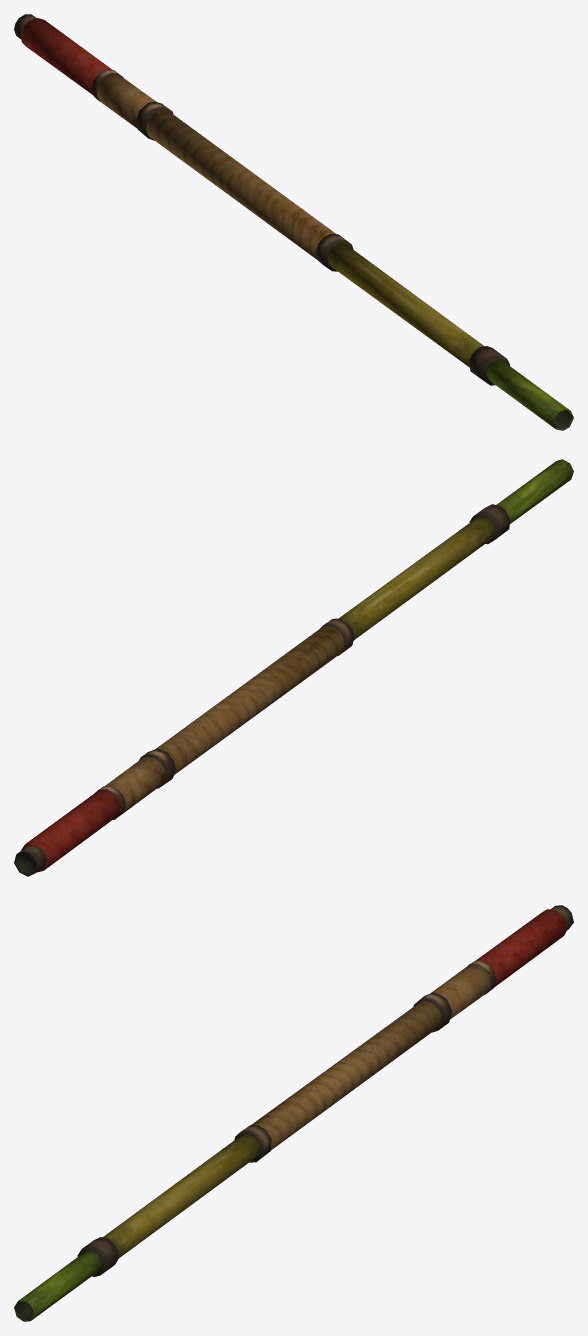
File: BlowGun.fbx
3 renders of one model, top to bottom at view 1: azimuth 30°, elevation 25°; view 2: azimuth 150°, elevation 25°; view 3: azimuth 330°, elevation 25°, orthographic.
Visible parts, largest first — view 1: Blowgun_Body; view 2: Blowgun_Body; view 3: Blowgun_Body.
Part boxes in pixels (x1,y1,x2,y2): Blowgun_Body: (14,14,573,430); Blowgun_Body: (14,459,573,876); Blowgun_Body: (14,905,573,1321).
Bounding box in the file's own units: 16.6 × 16.18 × 491.
Materials: 6 (6 with a texture image).
